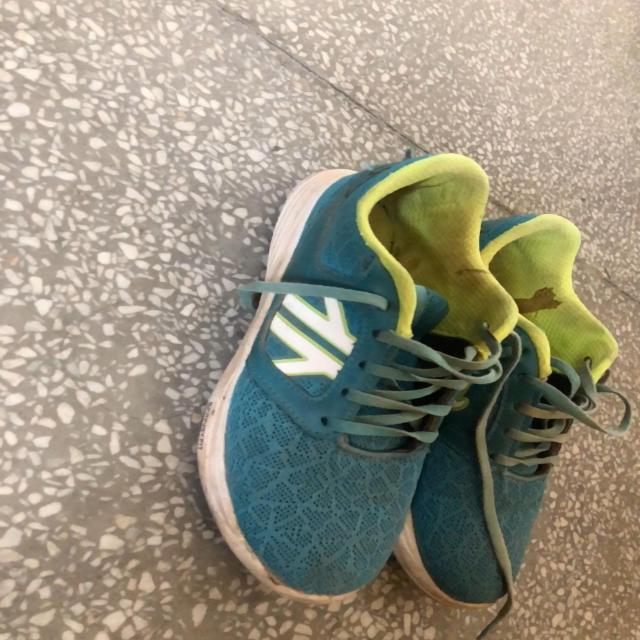shoe: (216, 149, 526, 599), (398, 212, 616, 612)
